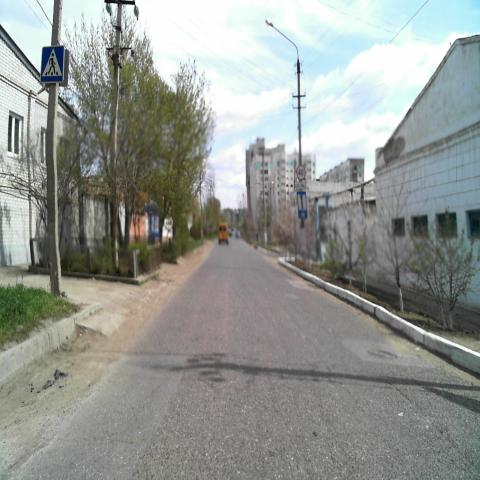7_4: (298, 191, 307, 217)
